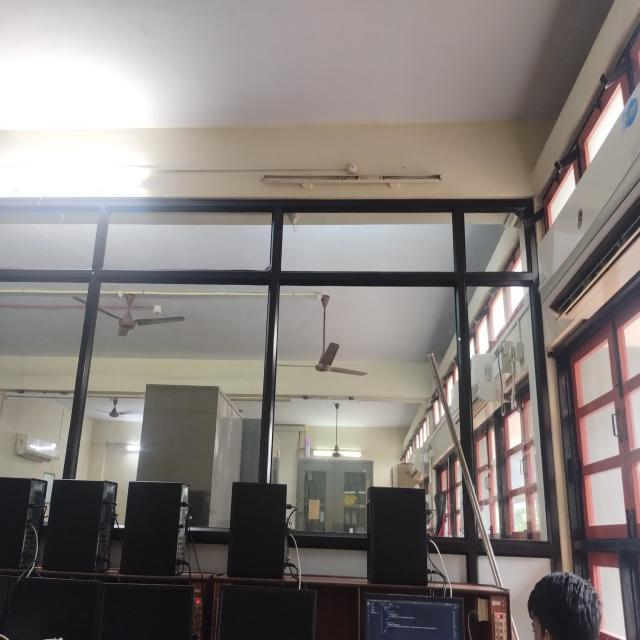fan_off: (272, 296, 368, 379), (73, 291, 184, 336)
fan_on: (314, 408, 366, 462), (82, 393, 143, 427)
tubelight_off: (258, 173, 445, 186), (7, 386, 75, 404), (296, 394, 362, 405)
tubelight_on: (2, 152, 152, 190), (312, 447, 364, 464), (126, 442, 141, 458), (31, 443, 59, 451)
